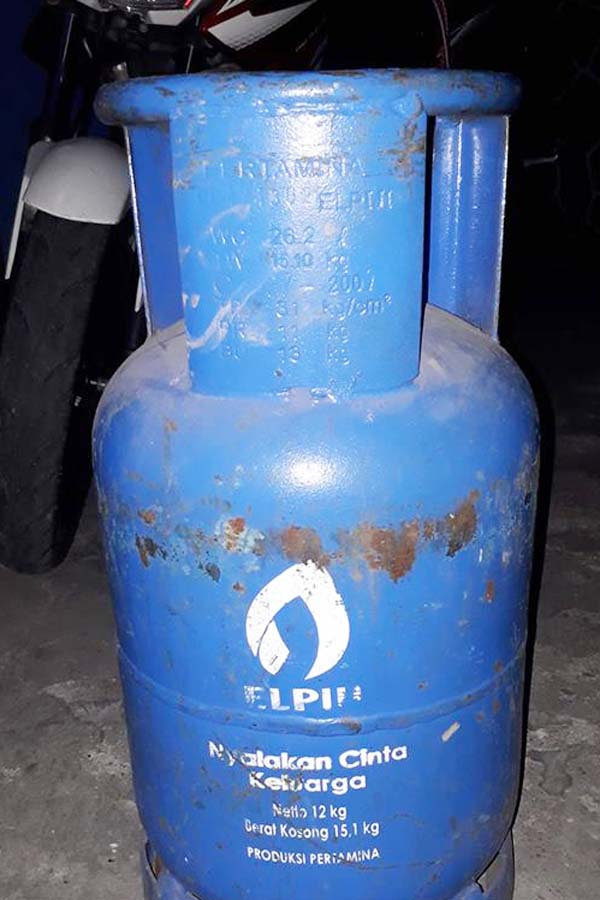blue_gas: (91, 68, 544, 900)
